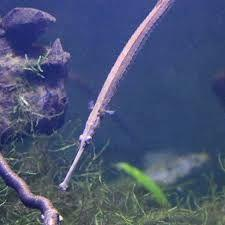Long-Snouted Pipefish: (49, 1, 173, 190)
